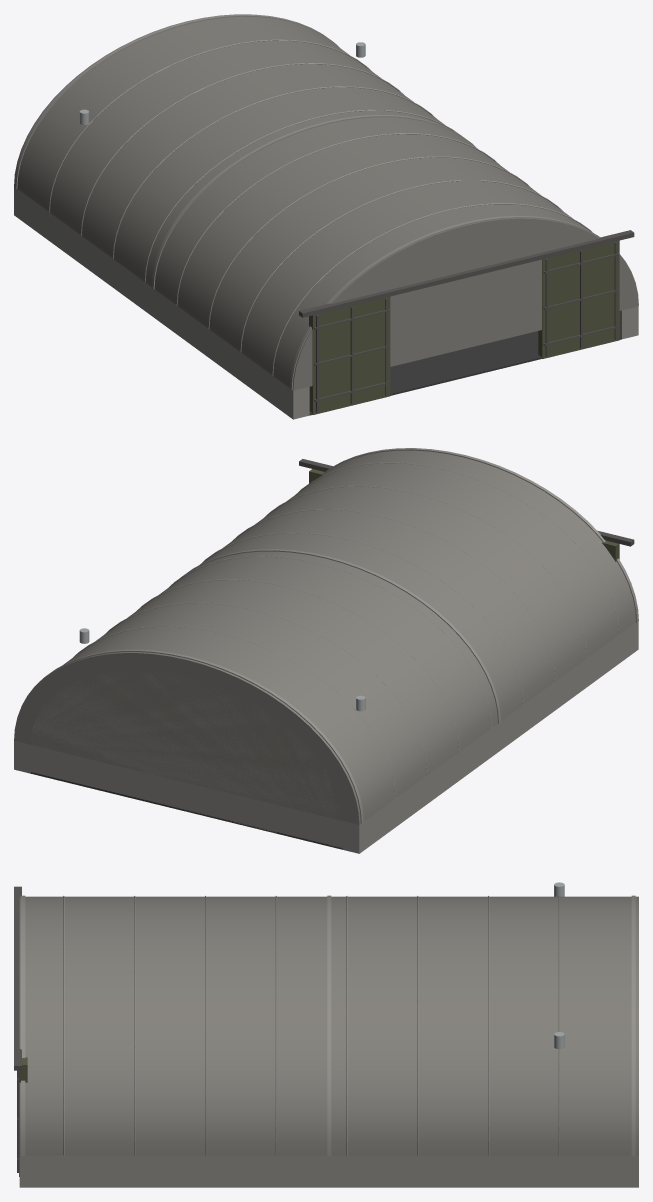
The model's file is Scenery_AircraftShelter.fbx.
3 views of the same model, one above another, from view 1: azimuth 30°, elevation 25°; view 2: azimuth 150°, elevation 25°; view 3: azimuth 270°, elevation 25° (orthographic). The views are drawn at different scales.
Parts seen in each view (by area): view 1: Scenery_AircraftShelter_LOD0; view 2: Scenery_AircraftShelter_LOD0; view 3: Scenery_AircraftShelter_LOD0.
Boxes of the visible parts, left/top/right/bottom form: Scenery_AircraftShelter_LOD0: left=14, top=14, right=638, bottom=419; Scenery_AircraftShelter_LOD0: left=14, top=448, right=638, bottom=853; Scenery_AircraftShelter_LOD0: left=14, top=882, right=638, bottom=1187.
Size of what is drawn, in the model's own units: 25.14 by 10.57 by 35.33.
